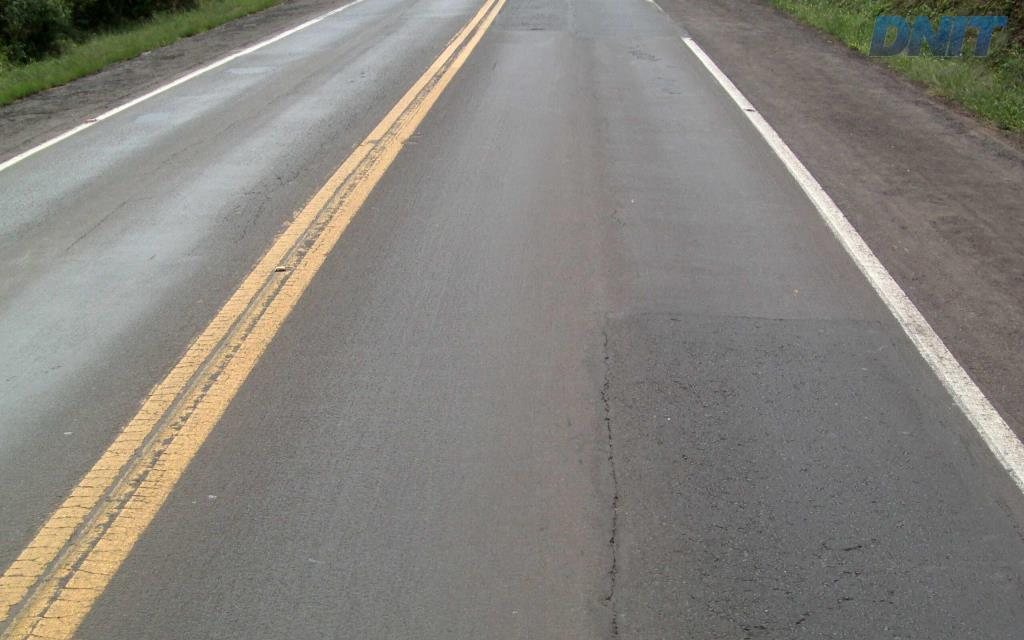crack: (731, 610, 815, 639), (600, 510, 619, 607)
